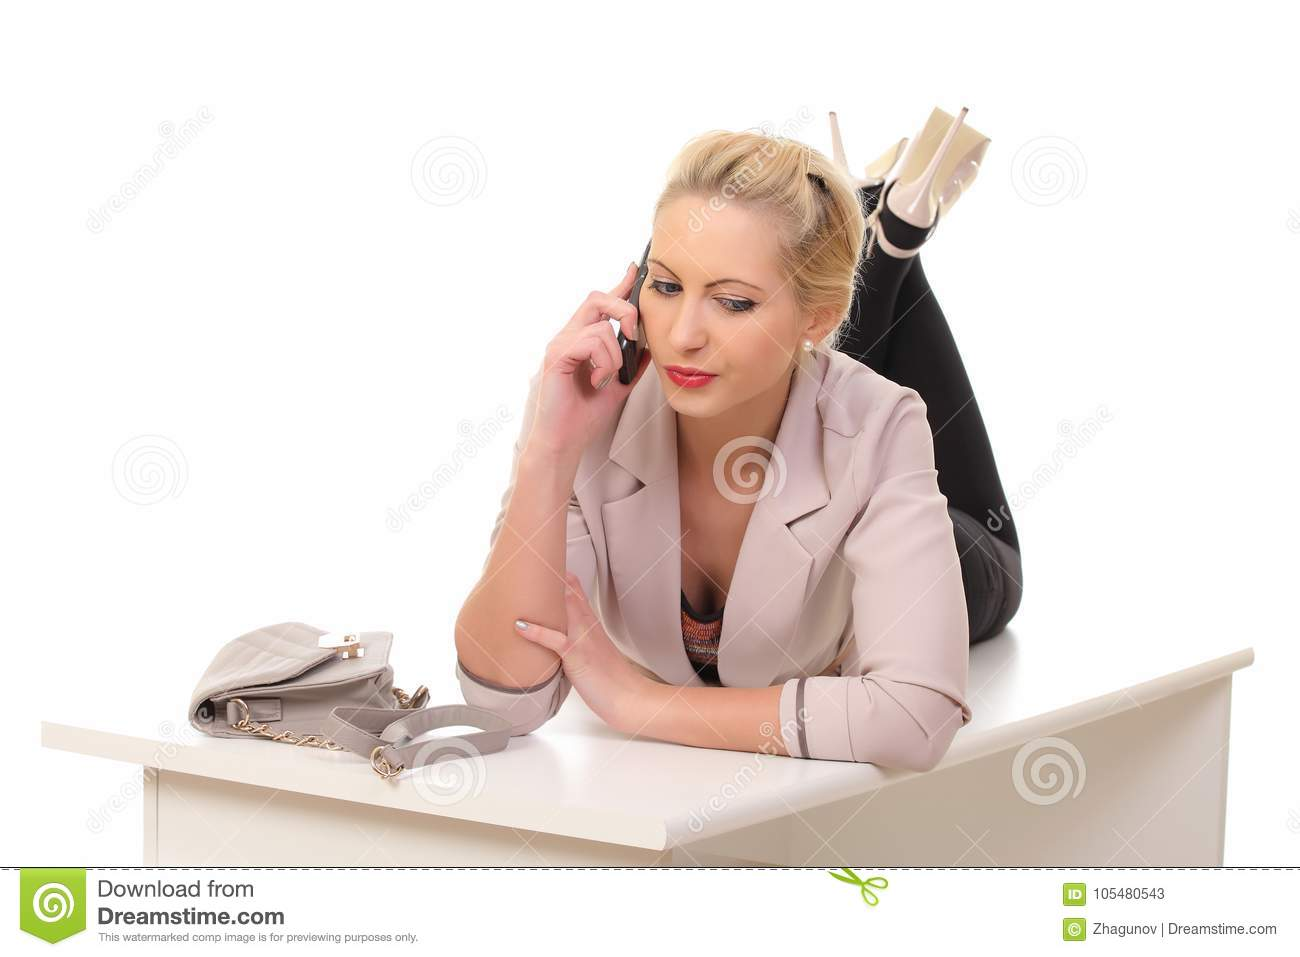phone: (609, 243, 651, 394)
talk: (521, 223, 771, 470)
